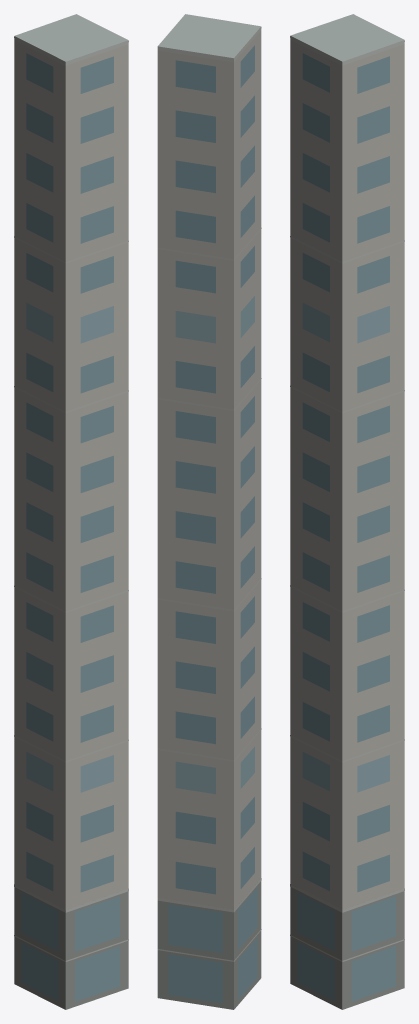
File: survey-upis-32805485.glb
3 renders of one model, left to right at view 1: azimuth 90°, elevation 25°; view 2: azimuth 210°, elevation 25°; view 3: azimuth 270°, elevation 25°, orthographic.
Parts seen in each view (by area): view 1: survey-upis-32805485.tmp; view 2: survey-upis-32805485.tmp; view 3: survey-upis-32805485.tmp.
Boxes of the visible parts, box(x1,y1,x2,y2) form: survey-upis-32805485.tmp: box(14, 14, 128, 1009); survey-upis-32805485.tmp: box(157, 14, 261, 1009); survey-upis-32805485.tmp: box(290, 14, 404, 1009).
Bounding box in the file's own units: 6.28 × 57.95 × 6.36.
